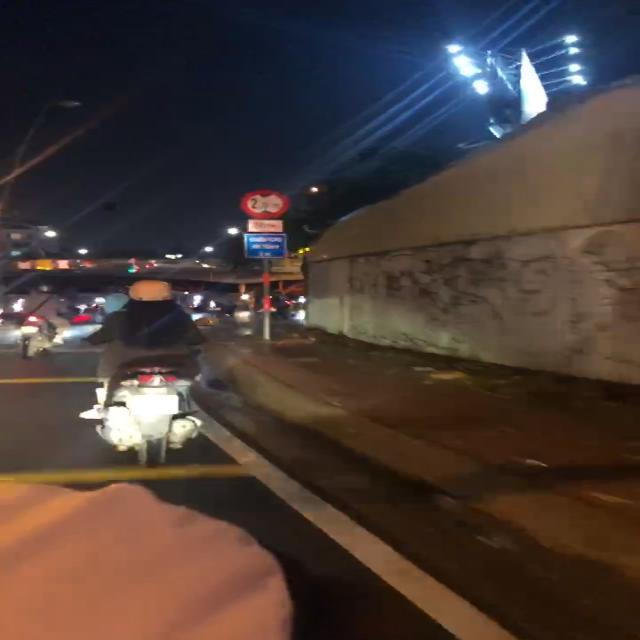Bien bao han che chieu cao: (234, 184, 290, 220)
